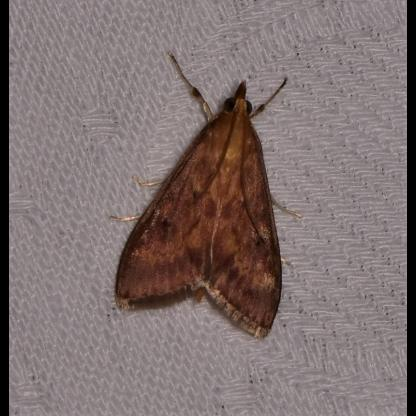Asian Corn Borer Moth: (108, 49, 306, 343)
